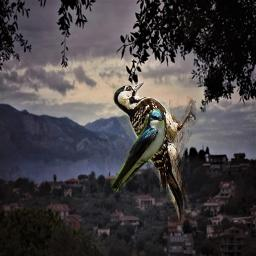Swallow: (110, 108, 167, 194)
Woodpecker: (113, 82, 196, 221)
